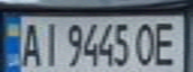4: (97, 19, 118, 67), (81, 19, 100, 67)
5: (112, 19, 136, 67)
9: (63, 20, 84, 68)
A: (18, 19, 42, 69)
E: (151, 18, 184, 68)
I: (39, 18, 60, 68)
O: (133, 19, 160, 67)
